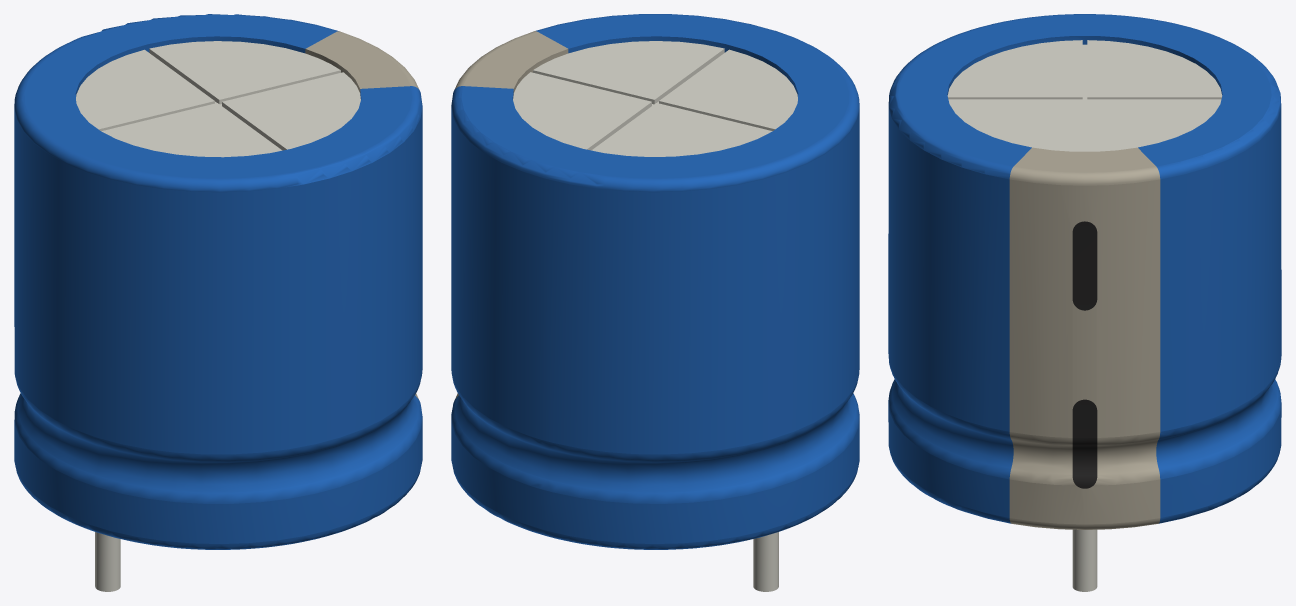
File: capacitor.glb
3 renders of one model, left to right at view 1: azimuth 30°, elevation 25°; view 2: azimuth 150°, elevation 25°; view 3: azimuth 270°, elevation 25°, orthographic. The views are drawn at different scales.
Visible parts, largest first — view 1: capacitor-1; view 2: capacitor-1; view 3: capacitor-1.
Part boxes in pixels (left/top/right/bottom): capacitor-1: left=14, top=14, right=422, bottom=591; capacitor-1: left=451, top=14, right=859, bottom=591; capacitor-1: left=888, top=14, right=1281, bottom=591.
Size of the model in its own units: 0.008 by 0.01 by 0.008.
